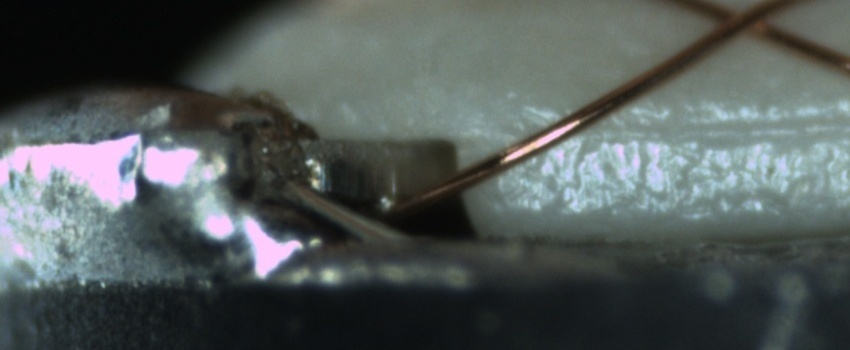CL: (703, 0, 790, 45)
DL: (522, 97, 850, 161)
